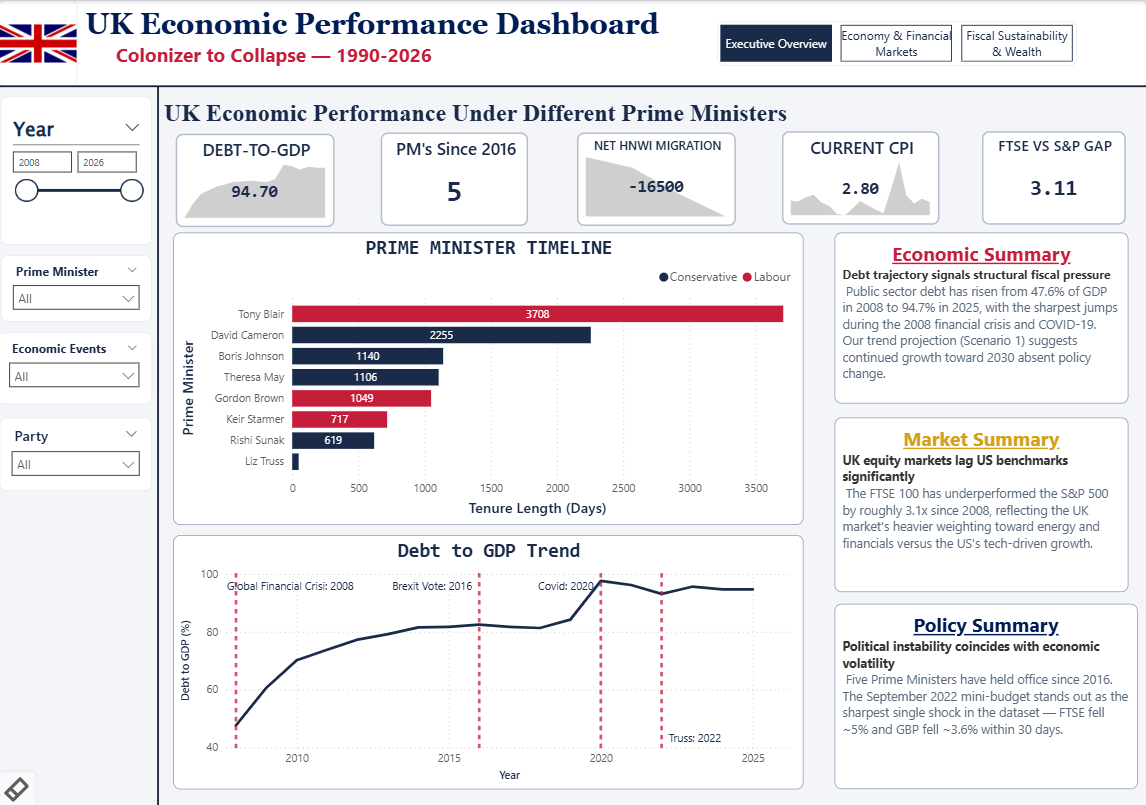

The dashboard page shown, as its layout file describes it:
{"tool":"powerbi","page":{"name":"Executive Overview","canvas":[1280,900],"ordinal":0},"visuals":[{"type":"kpi","title":"CURRENT CPI","fields":{"Indicator":["uk_decline_db fact_cpi_monthly.CURRENT CPI"],"TrendLine":["uk_decline_db dim_date.year"]},"box":[873.2,146.3,174.9,104.1],"z":0},{"type":"kpi","title":"NET HNWI MIGRATION","fields":{"Indicator":["uk_decline_db fact_cpi_monthly.NET HNWI MIGRATION"],"TrendLine":["dim_year.year"]},"box":[645.4,147.8,176.4,104.1],"z":1000},{"type":"card","title":"FTSE VS S&P GAP","fields":{"Values":["uk_decline_db fact_markets_daily.FTSE vs SP500 Gap"]},"box":[1096.4,146.3,159.9,104.1],"z":2000},{"type":"kpi","title":"DEBT-TO-GDP","fields":{"Indicator":["uk_decline_db fact_annual_indicators.DEBT-TO-GDP"],"TrendLine":["dim_year.year"]},"box":[199.1,149.3,176.4,104.1],"z":3000},{"type":"shape","box":[28.7,96.5,300.1,803.8],"z":4000},{"type":"barChart","title":"PRIME MINISTER TIMELINE","fields":{"Category":["uk_decline_db dim_pm.pm_name"],"Y":["Sum(uk_decline_db dim_pm.tenure_days)"],"Series":["uk_decline_db dim_pm.party"]},"box":[196,259.4,701.2,325.7],"z":5000},{"type":"lineChart","title":"Debt to GDP Trend","fields":{"Category":["dim_year.year"],"Y":["Sum(uk_decline_db fact_annual_indicators.debt_to_gdp_pct)"]},"box":[196,595.7,701.2,283.5],"z":6000},{"type":"textbox","box":[932,259.4,327.2,190],"z":7000},{"type":"textbox","box":[932,464.5,327.2,194.5],"z":8000},{"type":"textbox","box":[932,672.6,337.8,206.6],"z":9000},{"type":"slicer","fields":{"Values":["dim_year.year"]},"box":[4.2,106.6,168.3,165.5],"z":10000},{"type":"slicer","fields":{"Values":["uk_decline_db dim_pm.pm_name"]},"box":[4.2,283.3,168.3,74.3],"z":11000},{"type":"slicer","fields":{"Values":["uk_decline_db dim_pm.party"]},"box":[2.8,464.2,169.7,81.3],"z":12000},{"type":"slicer","fields":{"Values":["uk_decline_db dim_event.event_name"]},"box":[0,370.2,172.5,79.9],"z":13000},{"type":"textbox","box":[0,0,1280.3,96.5],"z":14000},{"type":"actionButton","title":"clear","box":[0,856.6,45.2,43.7],"z":15000},{"type":"image","box":[1.5,0,88,97.2],"z":16000},{"type":"pageNavigator","box":[801.1,24.1,400.5,49.5],"z":17000},{"type":"shape","box":[1.2,78.4,1278.8,36.2],"z":18000},{"type":"card","title":"PM''s Since 2016","fields":{"Values":["uk_decline_db dim_pm.PM's SINCE 2016"]},"box":[426.8,147.8,164.4,104.1],"z":19000},{"type":"textbox","box":[181,105.6,843,67.9],"z":20000}]}

Visuals, with their boxes in screenshot pixels (x1, y1, x2, y2), scaled from the page's 1280x900 canvas onto the 1146x805 screenshot:
"CURRENT CPI" kpi: left=782, top=131, right=938, bottom=224
"NET HNWI MIGRATION" kpi: left=578, top=132, right=736, bottom=225
"FTSE VS S&P GAP" card: left=982, top=131, right=1125, bottom=224
"DEBT-TO-GDP" kpi: left=178, top=134, right=336, bottom=227
shape: left=26, top=86, right=294, bottom=804
"PRIME MINISTER TIMELINE" barChart: left=175, top=232, right=803, bottom=523
"Debt to GDP Trend" lineChart: left=175, top=533, right=803, bottom=786
textbox: left=834, top=232, right=1127, bottom=402
textbox: left=834, top=415, right=1127, bottom=589
textbox: left=834, top=602, right=1137, bottom=786
slicer - dim_year.year: left=4, top=95, right=154, bottom=243
slicer - uk_decline_db dim_pm.pm_name: left=4, top=253, right=154, bottom=320
slicer - uk_decline_db dim_pm.party: left=3, top=415, right=154, bottom=488
slicer - uk_decline_db dim_event.event_name: left=0, top=331, right=154, bottom=403
textbox: left=0, top=0, right=1145, bottom=86
"clear" actionButton: left=0, top=766, right=40, bottom=804
image: left=1, top=0, right=80, bottom=87
pageNavigator: left=717, top=22, right=1076, bottom=66
shape: left=1, top=70, right=1145, bottom=103
"PM''s Since 2016" card: left=382, top=132, right=529, bottom=225
textbox: left=162, top=94, right=917, bottom=155
